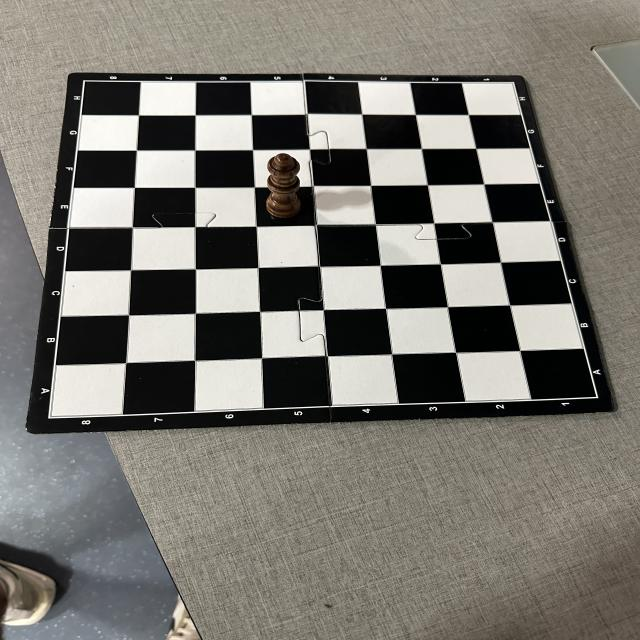Black-Queen: (265, 152, 302, 218)
